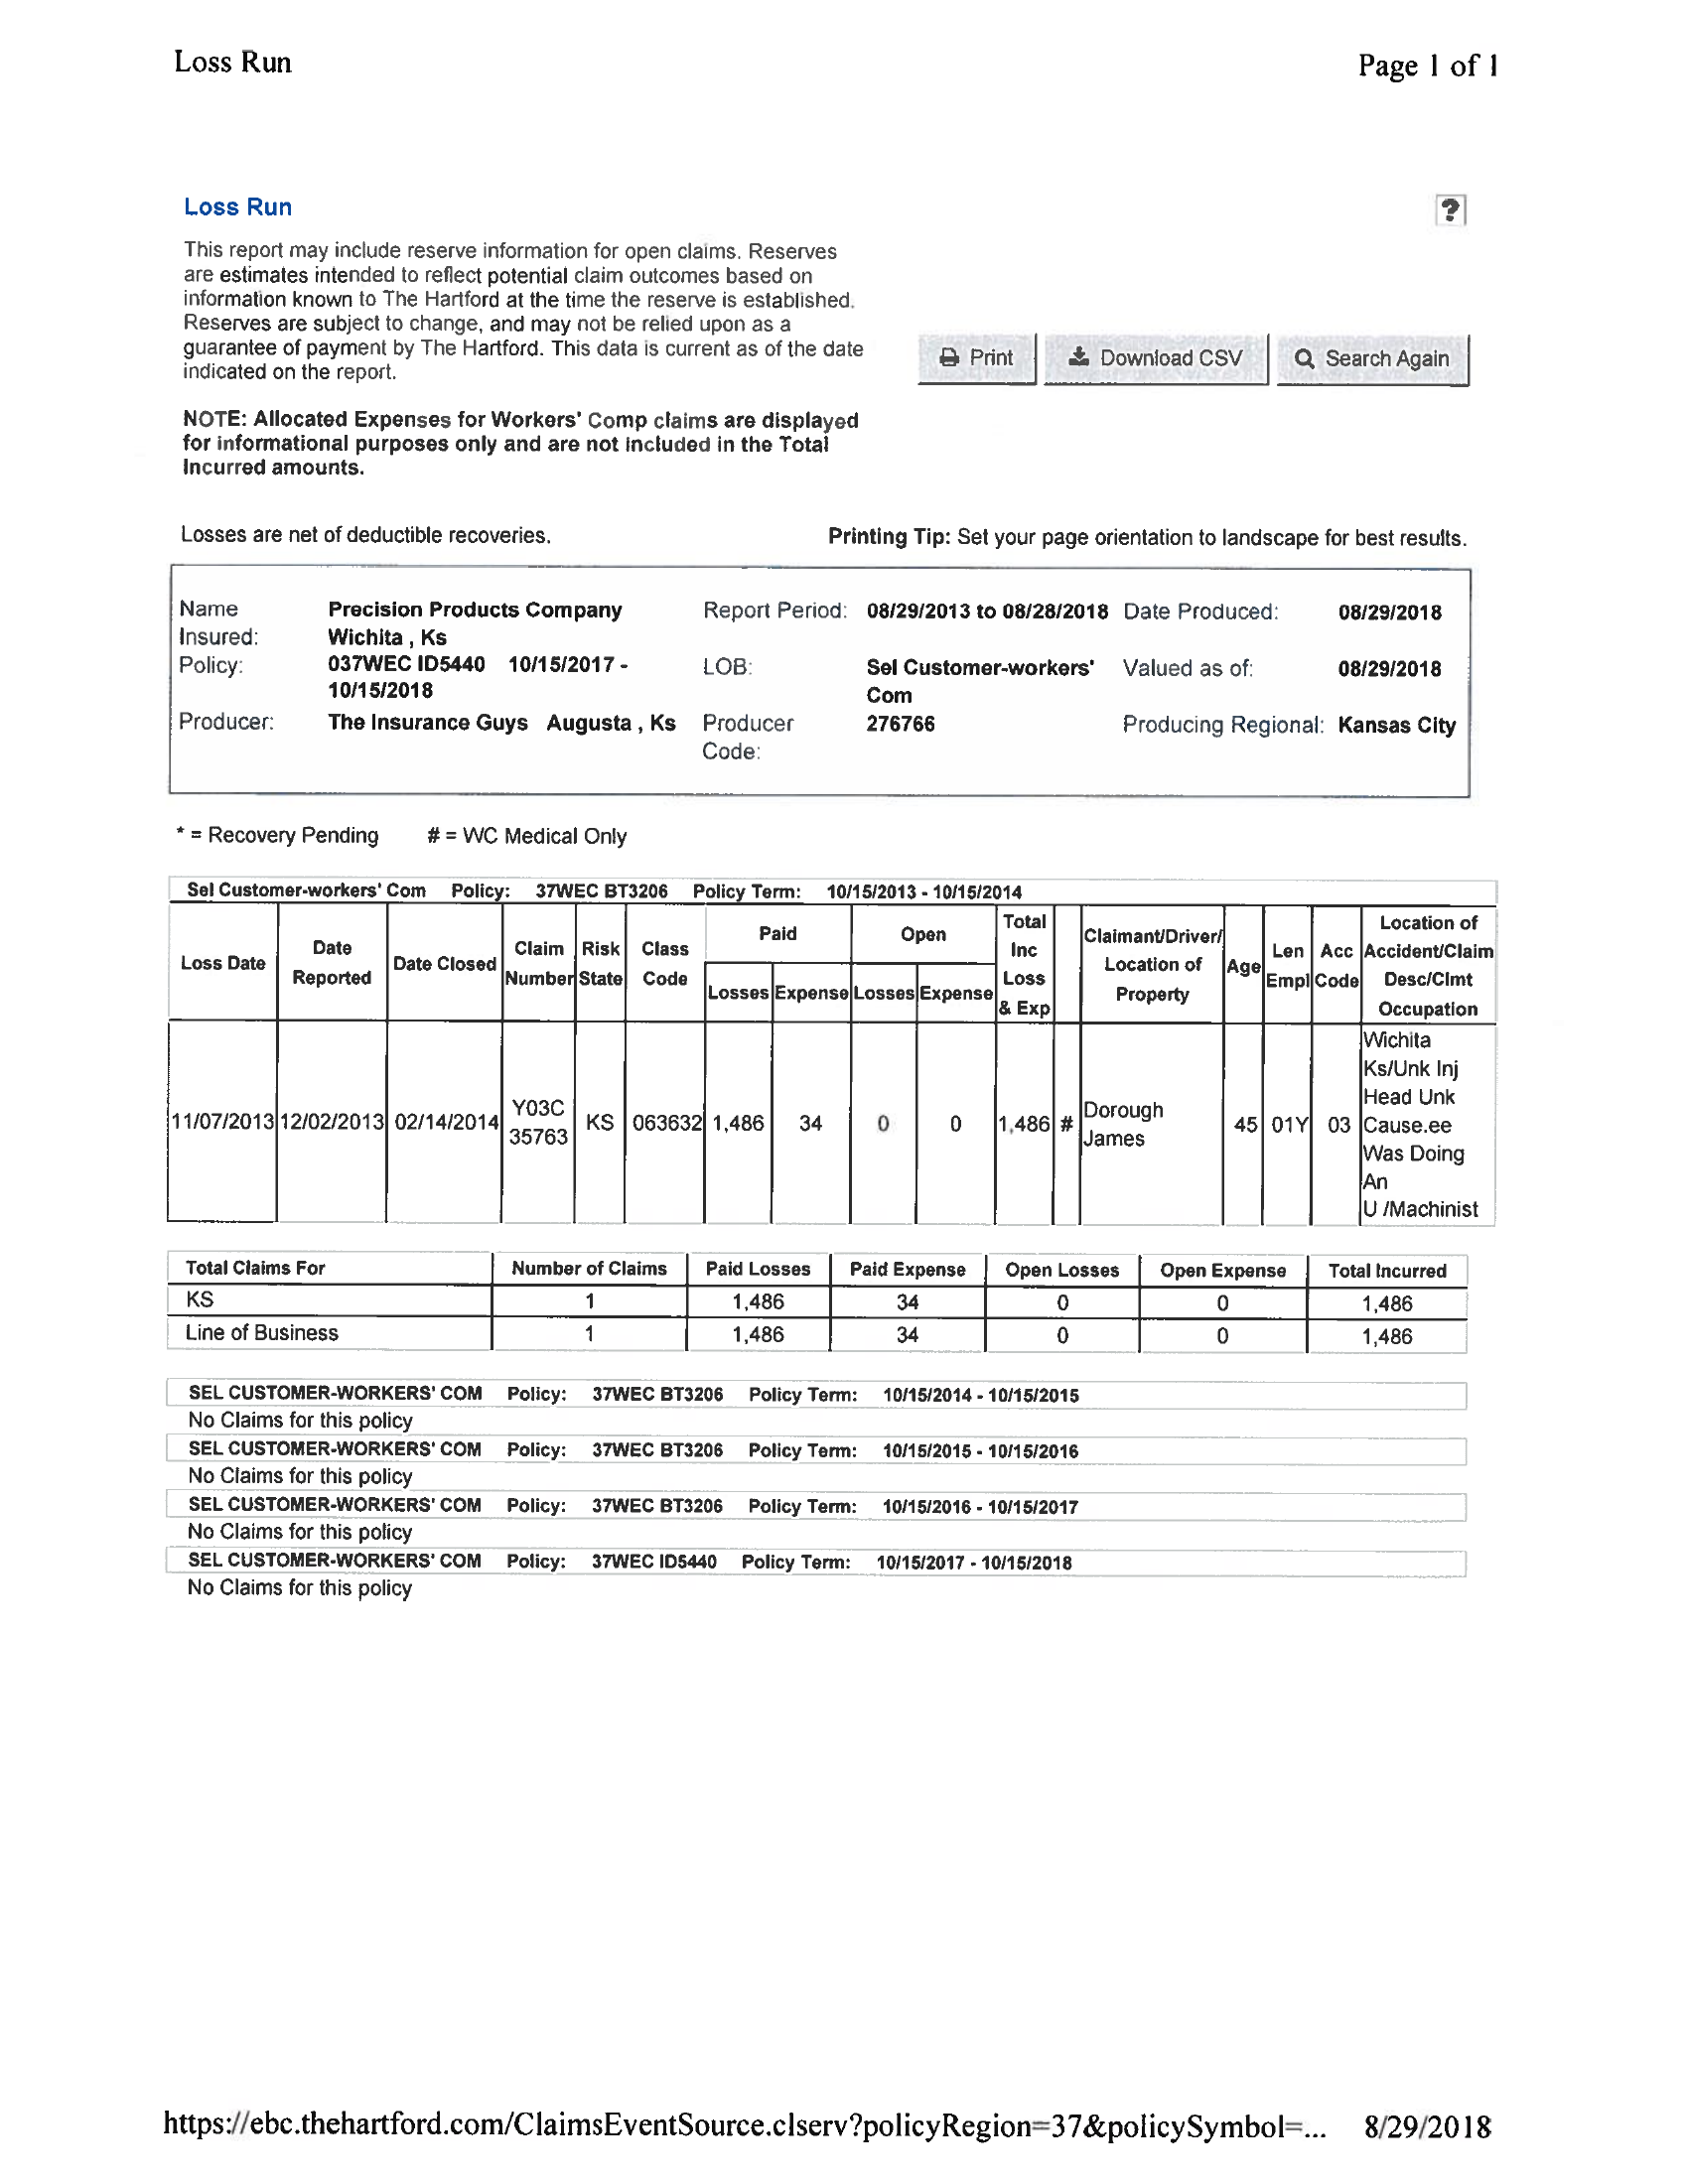others: (152, 551, 1502, 1611)
